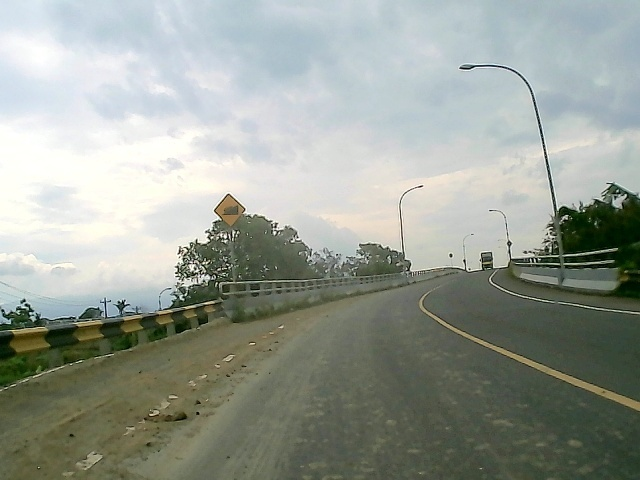Jalanan menanjak: (213, 192, 247, 228)
